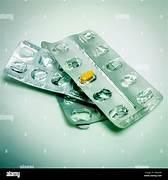pill_Strip: (48, 31, 162, 127), (70, 30, 162, 126), (5, 41, 104, 128), (71, 30, 161, 108), (48, 38, 123, 118), (4, 41, 91, 102), (10, 41, 48, 87), (56, 95, 106, 128), (80, 70, 95, 83)
